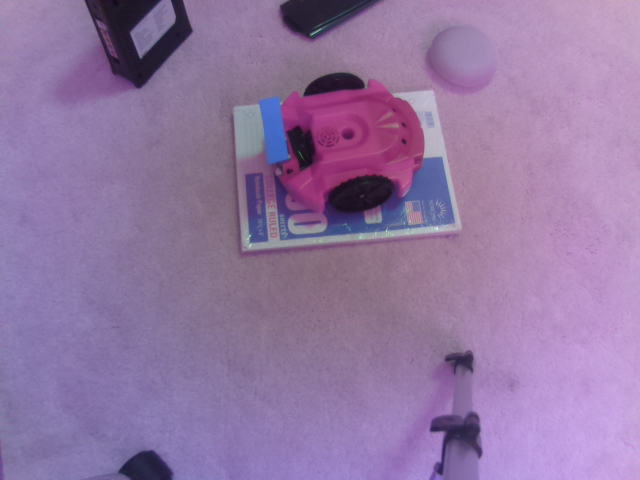board: (252, 95, 300, 169)
chassis: (256, 61, 431, 210)
